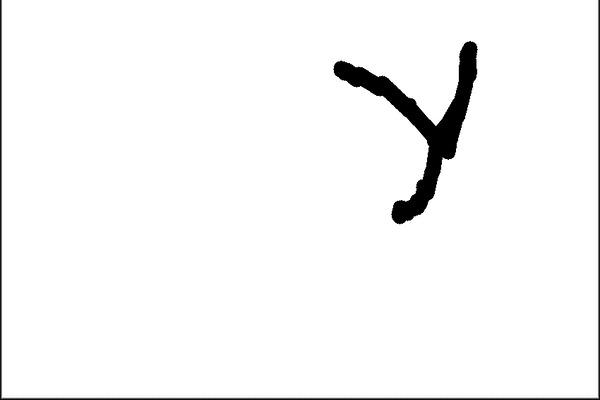Y: (314, 33, 491, 233)
